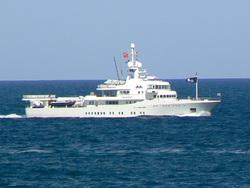yacht: (21, 42, 222, 121)
